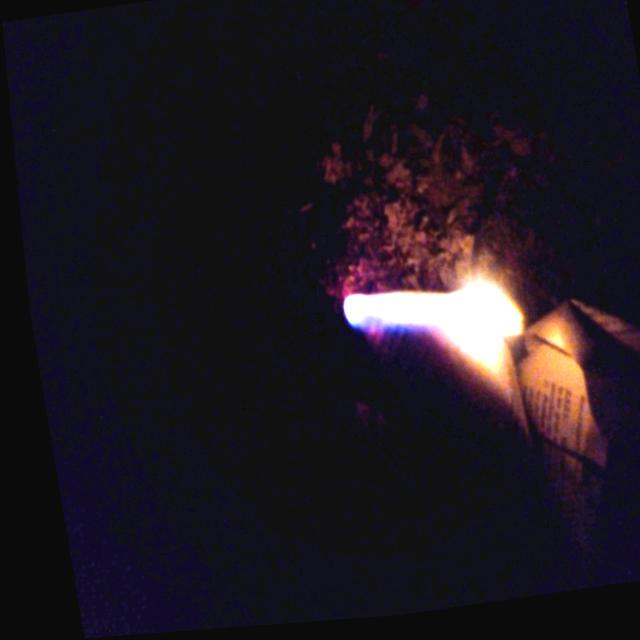helmet: (331, 274, 520, 365)
